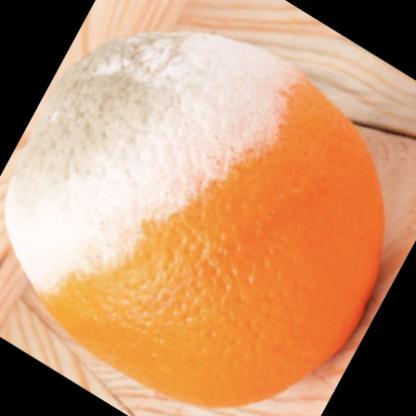rotten: (9, 33, 386, 405)
